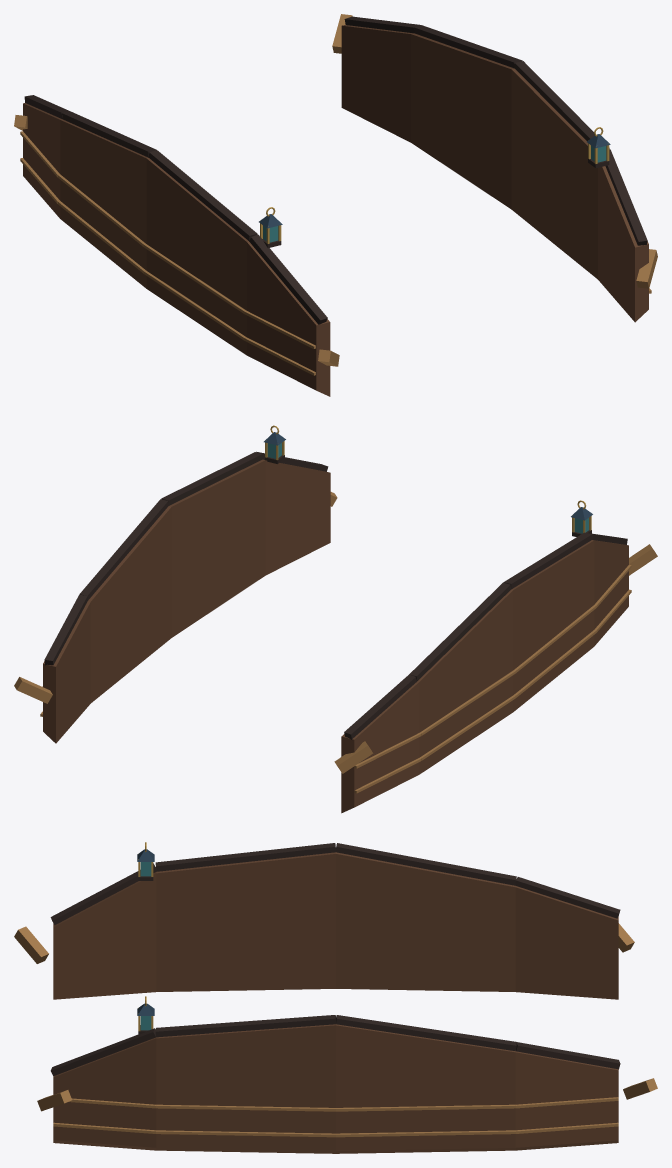
Rendered from PirateCove_WreckHull_Standard.glb.
3 views of the same model, one above another, from view 1: azimuth 30°, elevation 25°; view 2: azimuth 150°, elevation 25°; view 3: azimuth 270°, elevation 25° (orthographic). The views are drawn at different scales.
Parts seen in each view (by area): view 1: PirateCove_WreckHull_Standard; view 2: PirateCove_WreckHull_Standard; view 3: PirateCove_WreckHull_Standard.
Boxes of the visible parts, x1,y1,x2,y2 form: PirateCove_WreckHull_Standard: (14, 14, 657, 396); PirateCove_WreckHull_Standard: (14, 425, 657, 813); PirateCove_WreckHull_Standard: (14, 842, 657, 1153).
Size of the model in its own units: 8.31 by 3.25 by 12.54.
